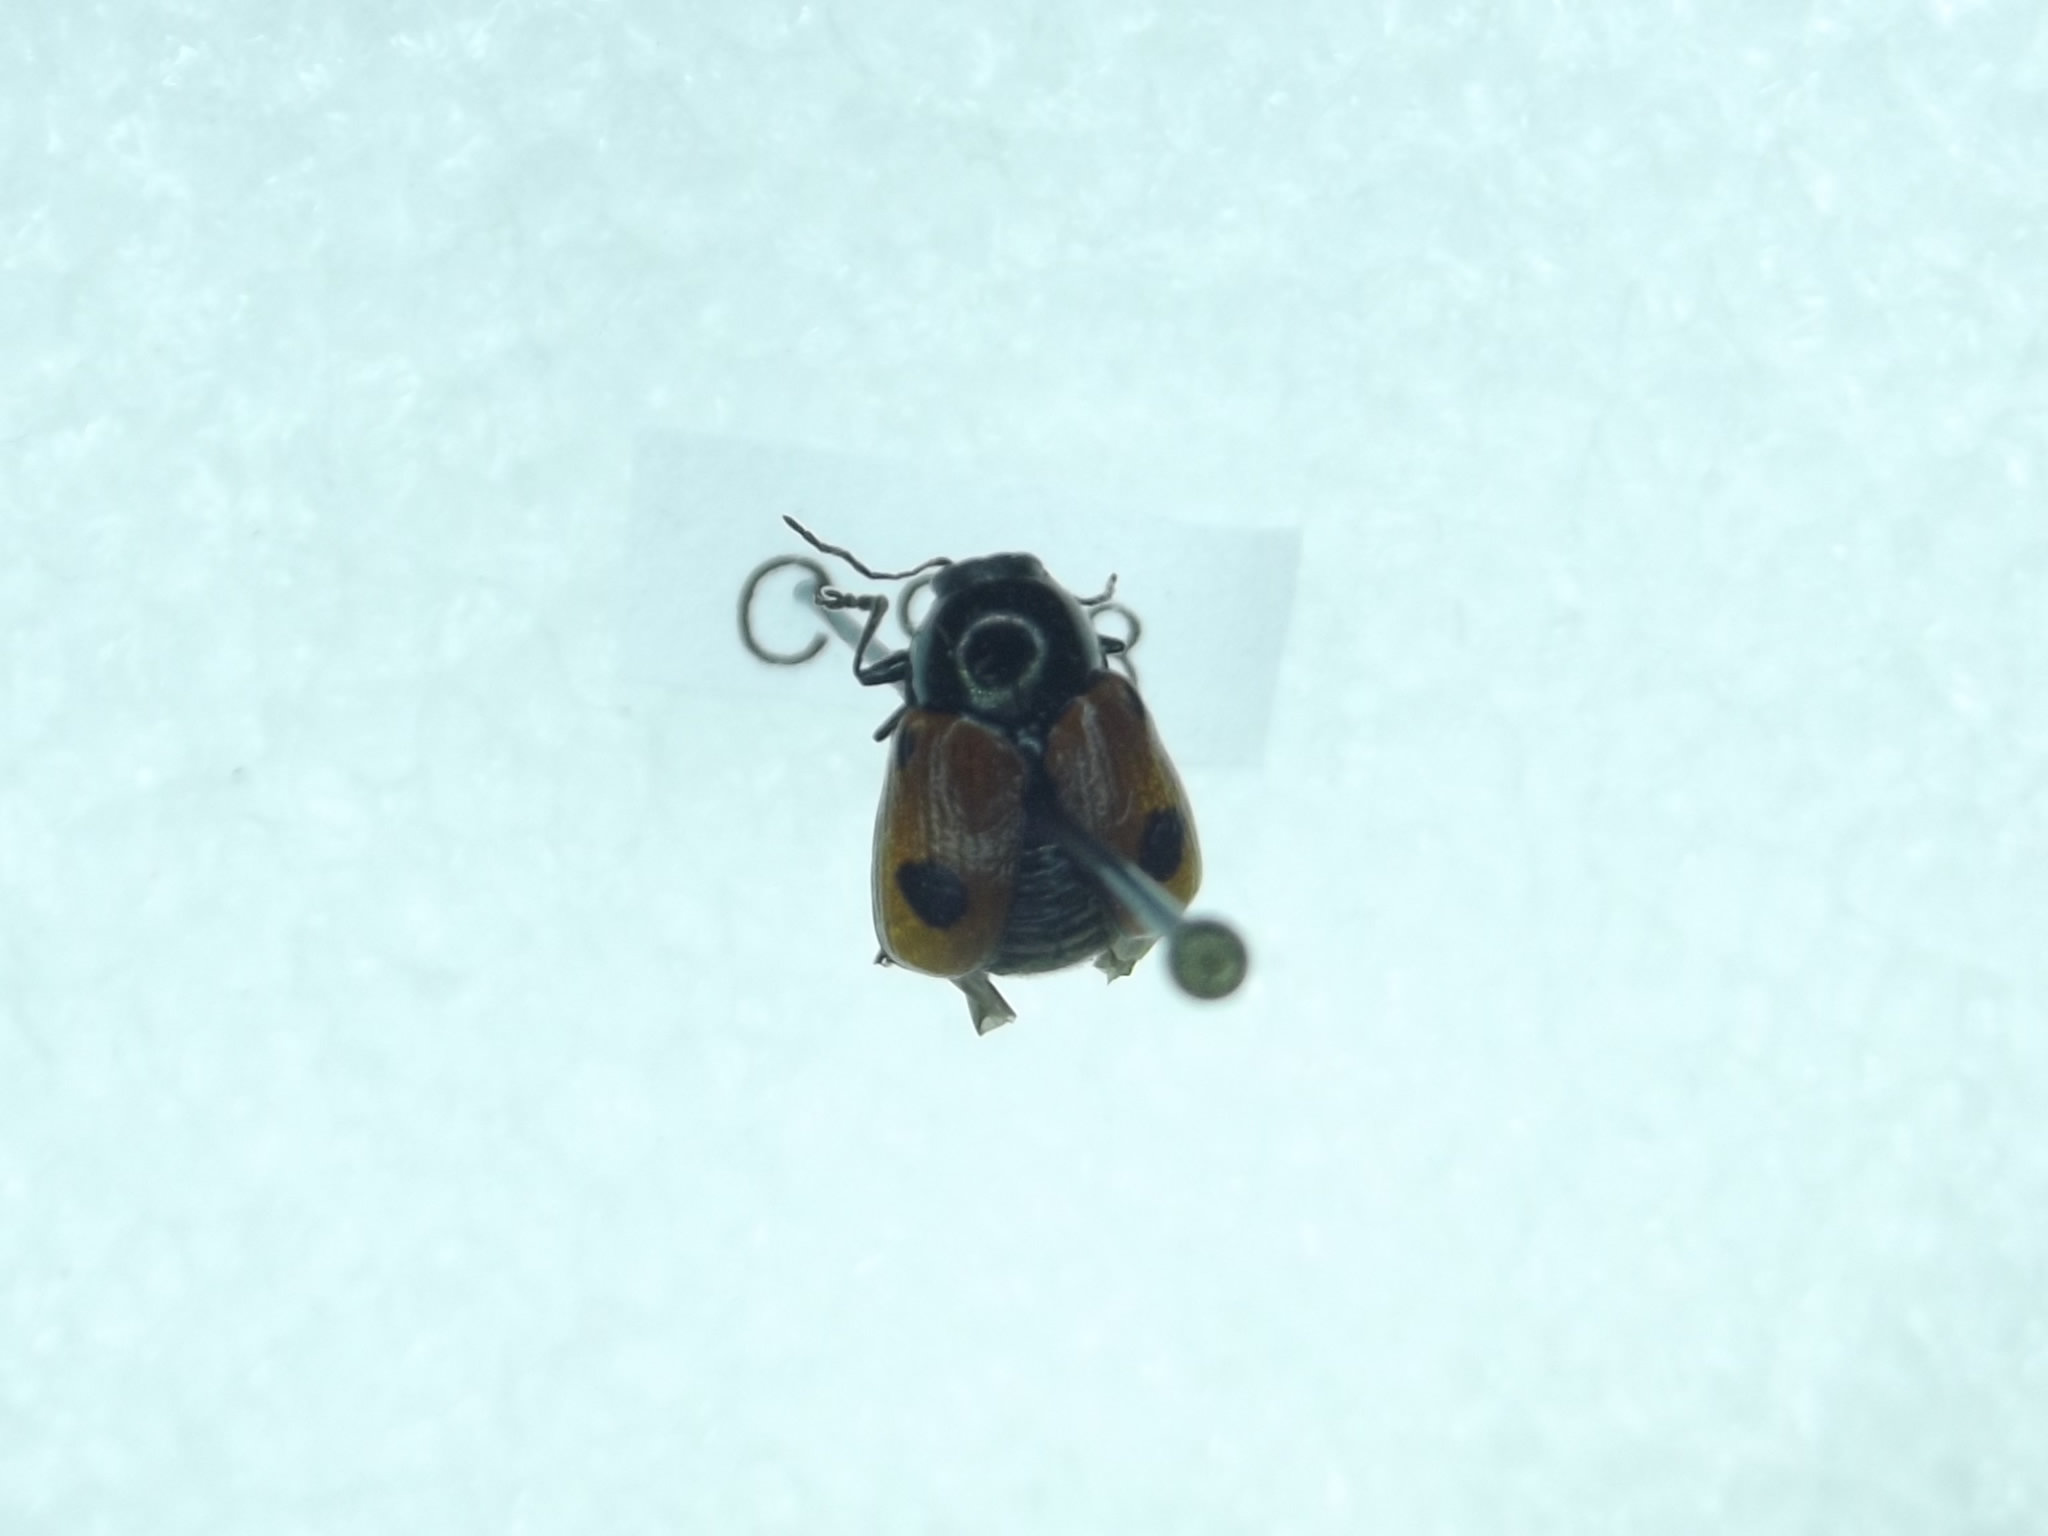Cryptocephalus_bipunctatus: (768, 495, 1205, 1025)
